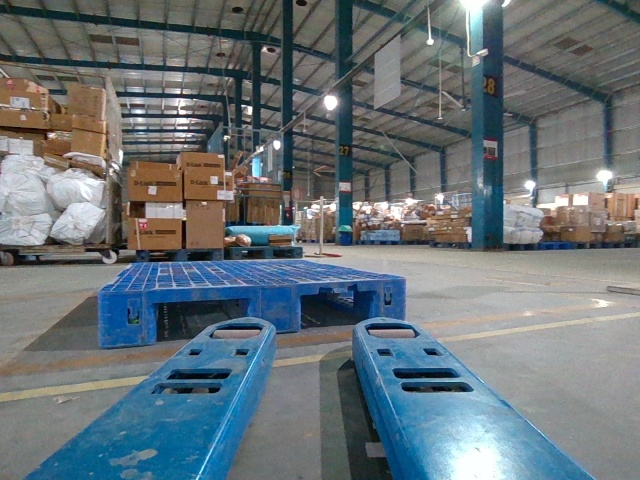block: (100, 291, 155, 350), (249, 282, 301, 339), (372, 277, 407, 318)
front: (100, 277, 406, 347)
hole pallet: (152, 294, 250, 345), (297, 286, 373, 330)
